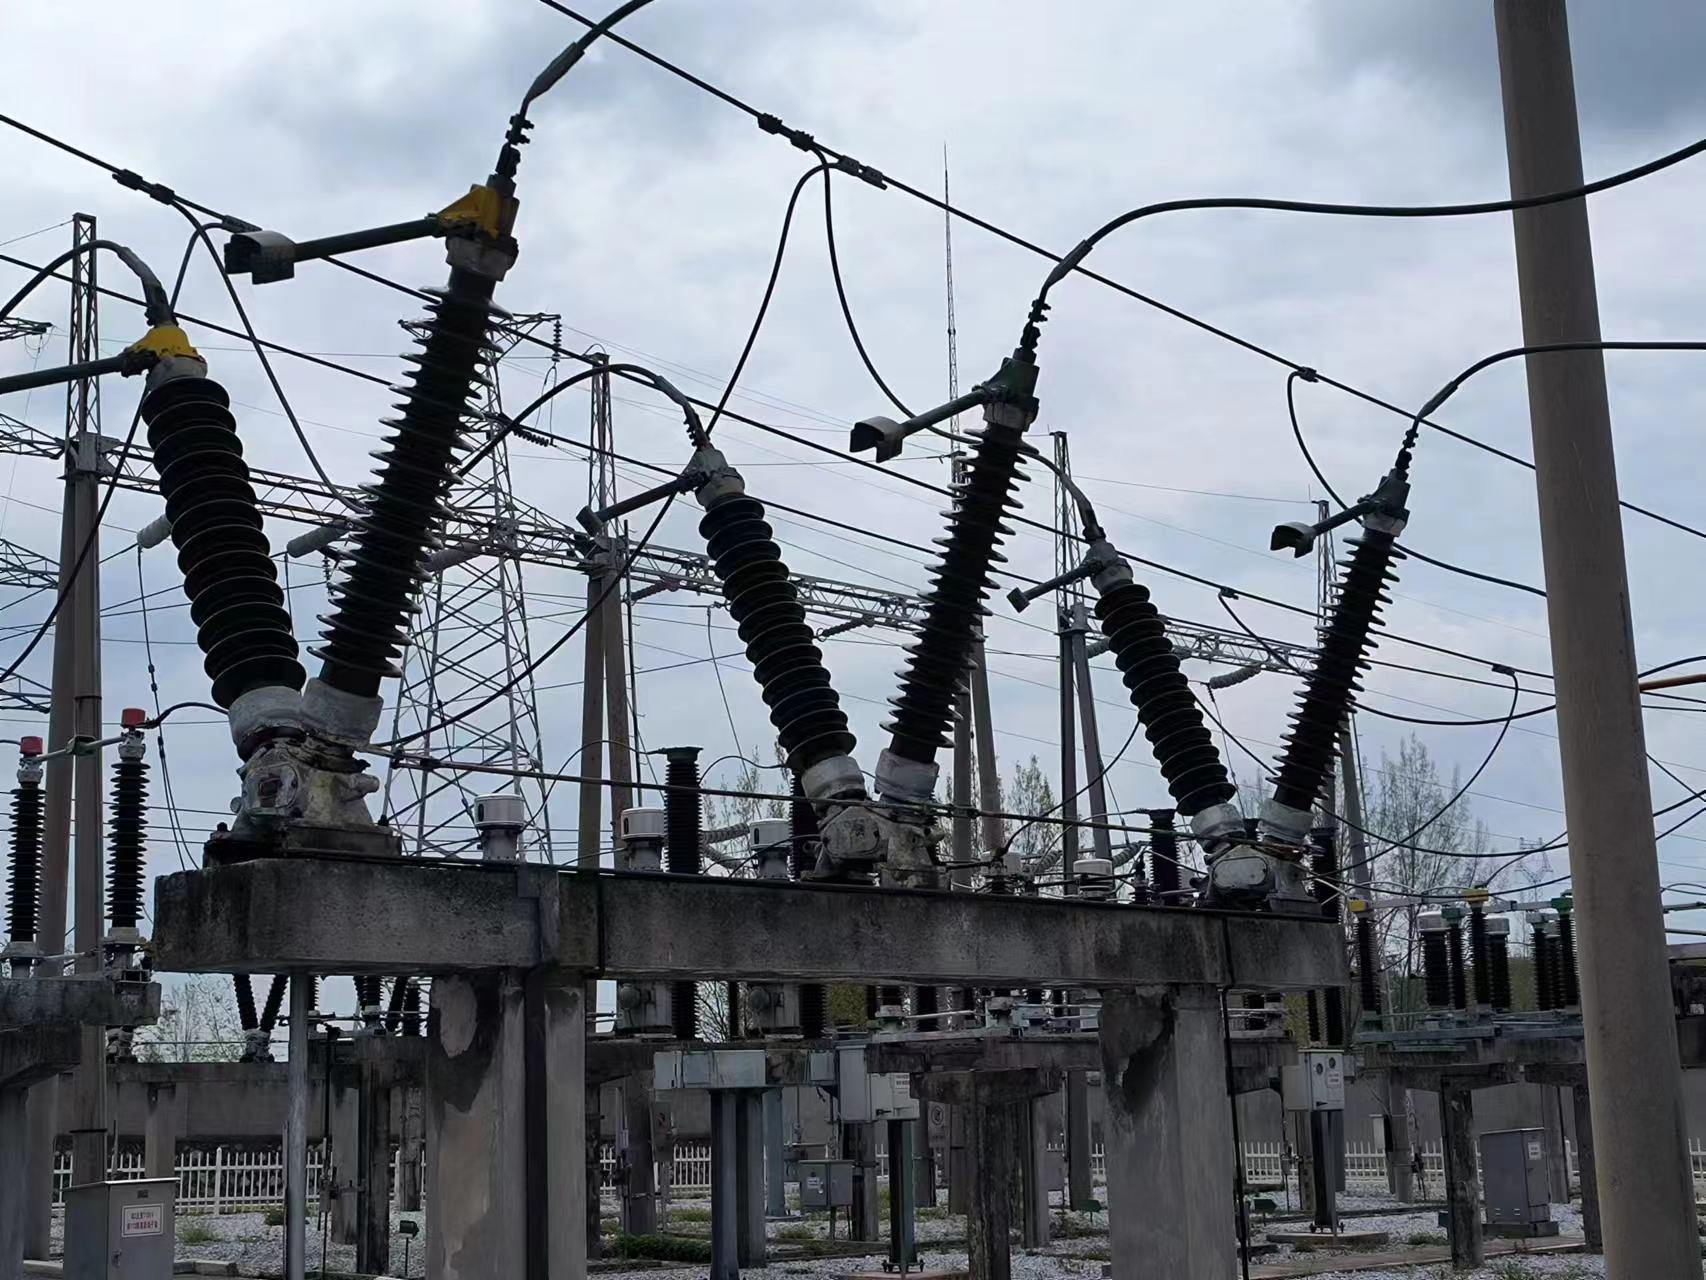Isolating switch: (1, 194, 557, 847), (575, 358, 1043, 859), (1008, 453, 1449, 901)
